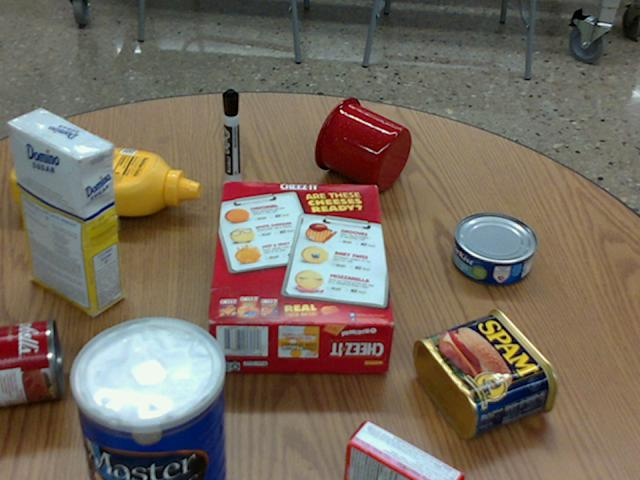cracker_box: (207, 184, 393, 370)
gelatin_box: (343, 418, 464, 479)
large_marker: (221, 89, 239, 186)
master_chef_can: (67, 316, 223, 479)
mug: (314, 97, 411, 191)
mustard_bottle: (11, 139, 199, 215)
potted_meat_can: (414, 308, 557, 438)
sugar_box: (8, 108, 120, 316)
tomato_soup_can: (0, 317, 62, 403)
tuna_fish_can: (452, 212, 536, 284)
